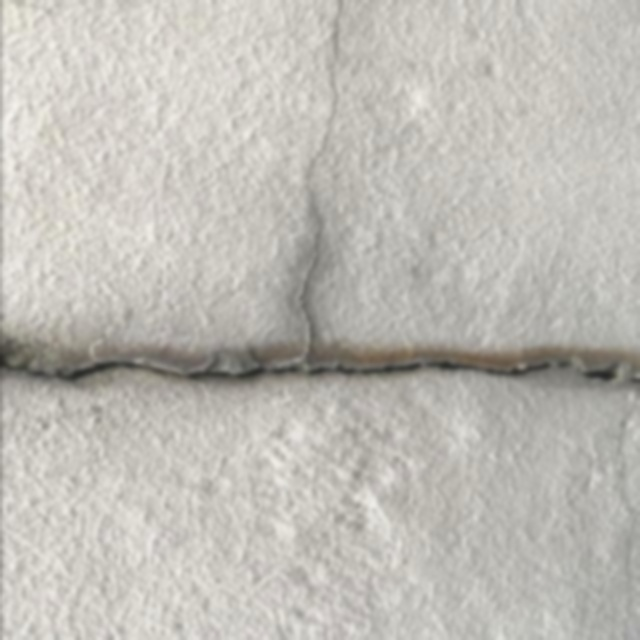SurfaceCrack: (4, 288, 640, 446)
